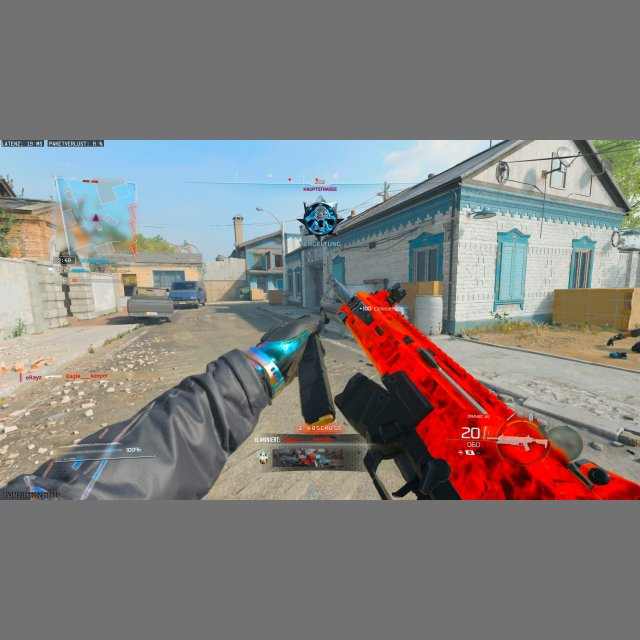player: (496, 160, 509, 182)
